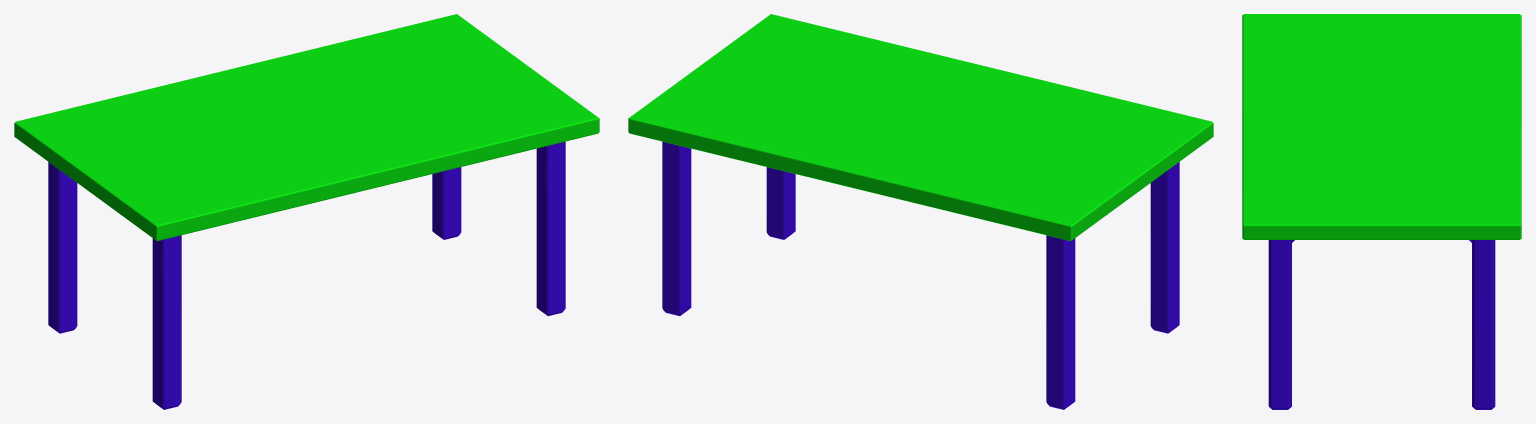
File: TableFree.fbx
The picture shows the model from 3 angles, left to right: view 1: azimuth 30°, elevation 25°; view 2: azimuth 150°, elevation 25°; view 3: azimuth 270°, elevation 25°; orthographic projection. The views are drawn at different scales.
Visible parts, largest first — view 1: TableFree; view 2: TableFree; view 3: TableFree.
Boxes of the visible parts, x1,y1,x2,y2 form: TableFree: (14,14,599,409); TableFree: (628,14,1213,409); TableFree: (1242,14,1521,409).
Size of the model in its own units: 199 by 86.07 by 111.
